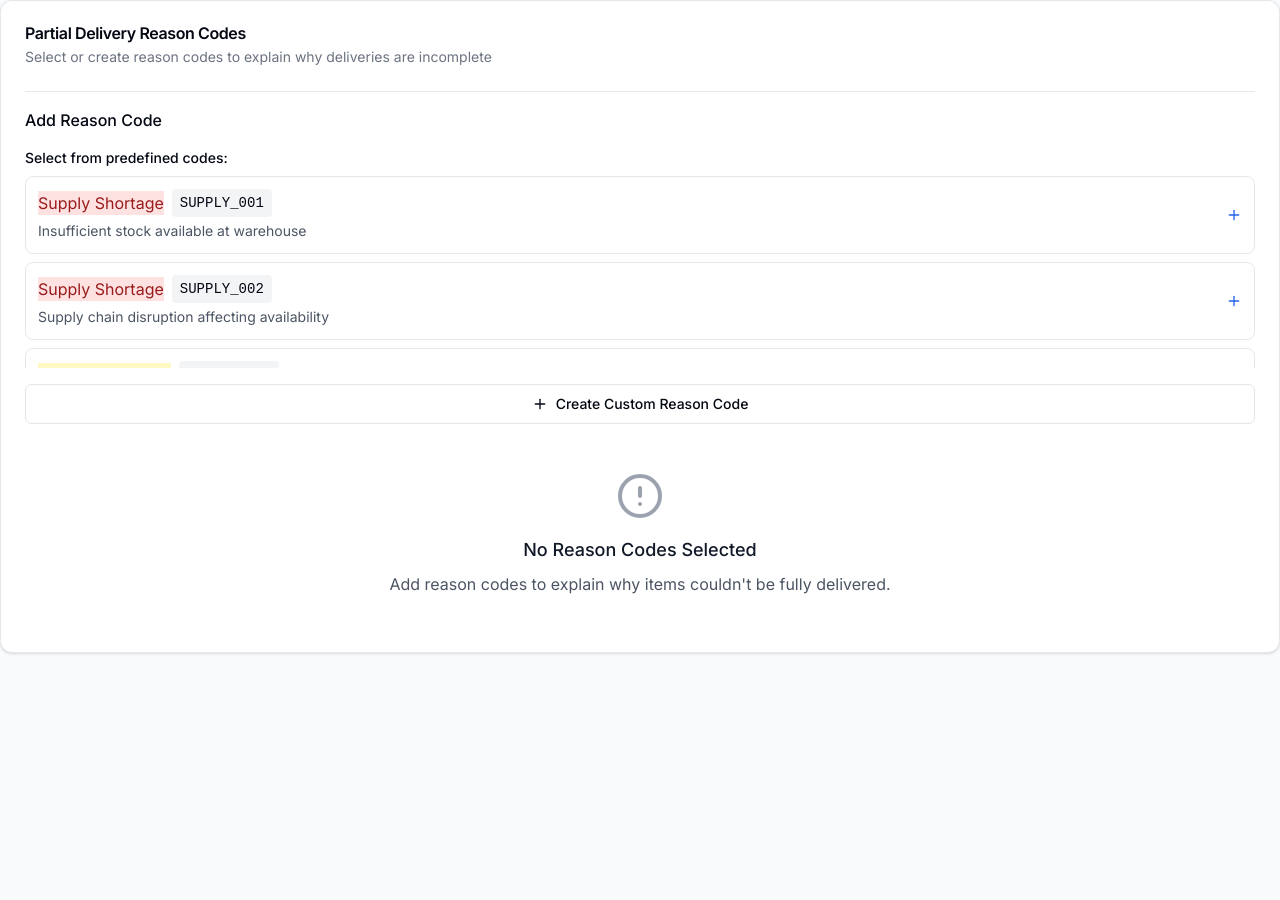
Test: ReasonCodeSelector › shows custom reason code creation form when button is clicked
This screenshot has width=1280, height=900.
Click the button "Create Custom Reason Code".
click(640, 404)  # box [25,384,1255,424]
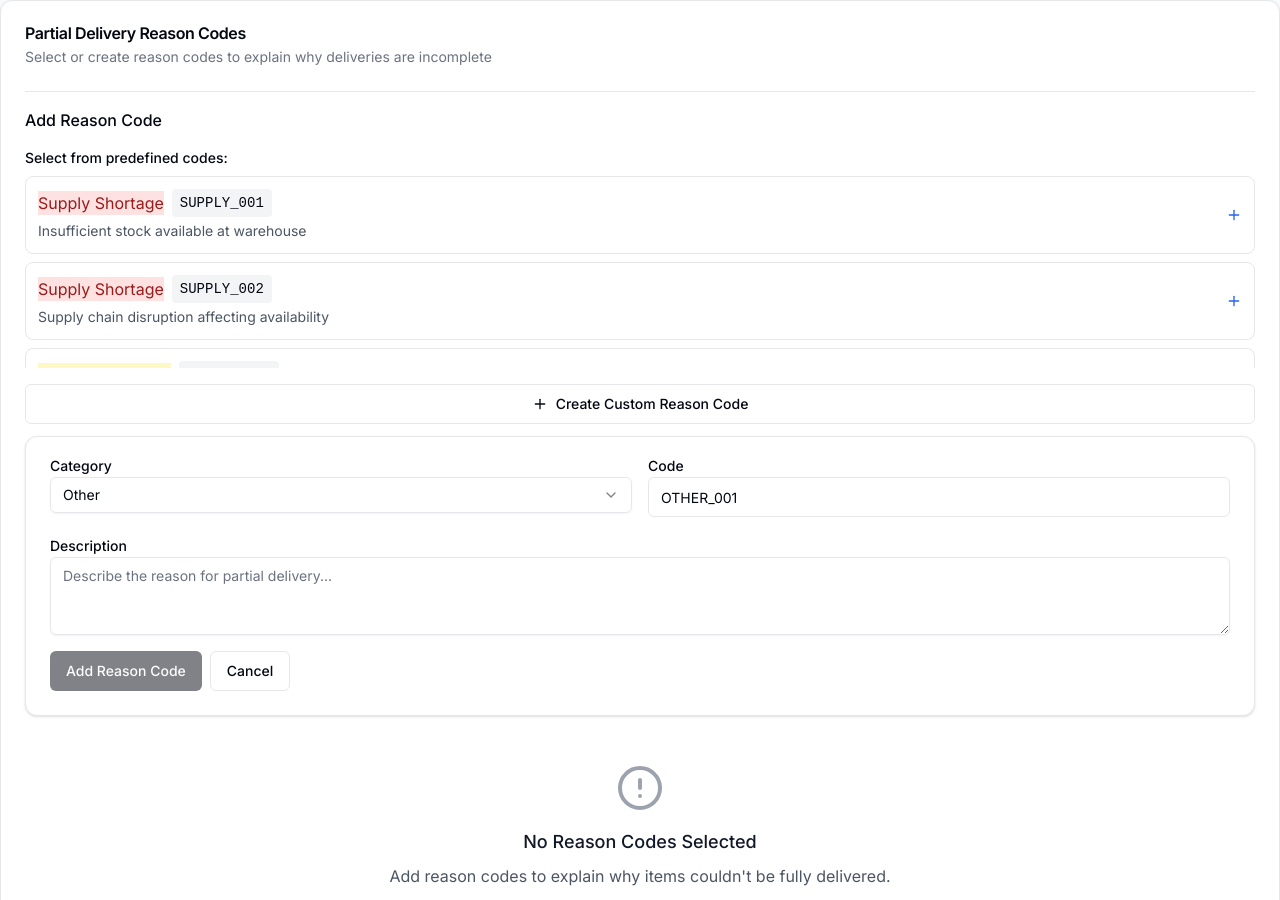
Check: the text "Category" is shown, box [50,457,112,474]
Check: the text "Code" is shown, box [648,457,684,474]
Check: the text "Description" is shown, box [50,537,127,554]
